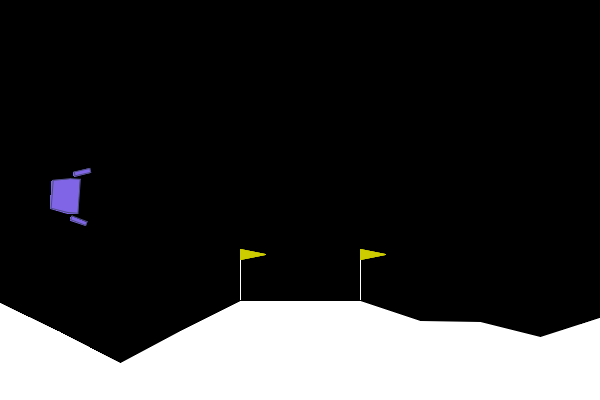lander: (47, 165, 92, 227)
